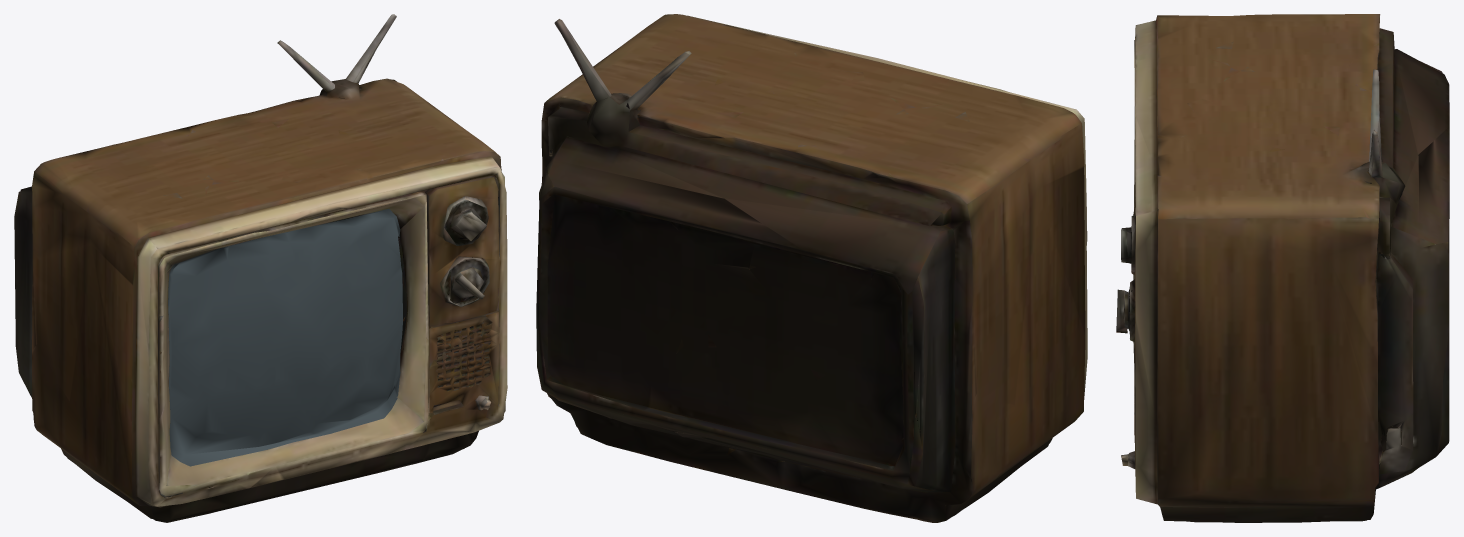
File: tv_rig.glb
The picture shows the model from 3 angles, left to right: view 1: azimuth 30°, elevation 25°; view 2: azimuth 150°, elevation 25°; view 3: azimuth 270°, elevation 25°; orthographic projection. The views are drawn at different scales.
Parts seen in each view (by area): view 1: body.geo, screen.geo, knob.2.geo, antenna.R.geo, knob.1.geo, antenna.L.geo; view 2: body.geo, antenna.R.geo, antenna.L.geo; view 3: body.geo, antenna.L.geo, antenna.R.geo, knob.2.geo.
Boxes of the visible parts, x1,y1,x2,y2 form: body.geo: (14,78,507,522); screen.geo: (168,208,402,466); knob.2.geo: (440,257,487,306); antenna.R.geo: (332,14,396,89); knob.1.geo: (444,209,481,257); antenna.L.geo: (277,40,334,96); body.geo: (536,14,1087,522); antenna.R.geo: (554,19,620,116); antenna.L.geo: (626,51,691,117); body.geo: (1121,14,1449,522); antenna.L.geo: (1369,69,1382,161); antenna.R.geo: (1358,130,1399,182); knob.2.geo: (1116,280,1134,333).
Bounding box in the file's own units: 1.08 × 1 × 0.7457.
2 materials, 1 textured.
